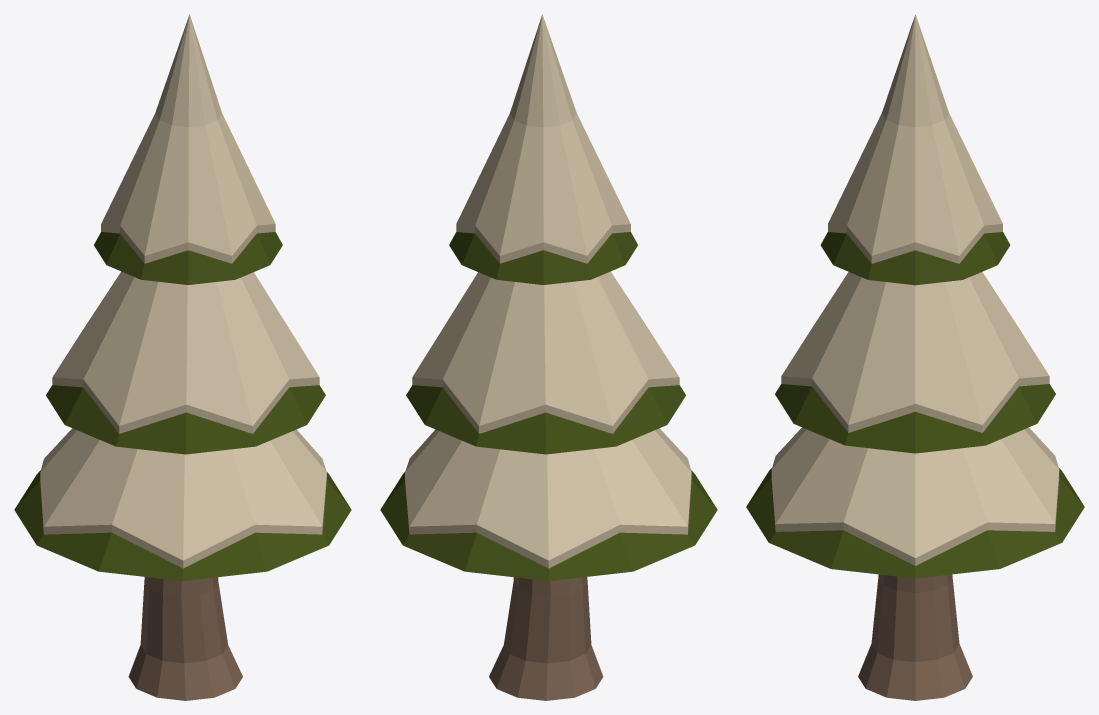
Rendered from SnowTree 1.fbx.
3 views of the same model, side by side, from view 1: azimuth 30°, elevation 25°; view 2: azimuth 150°, elevation 25°; view 3: azimuth 270°, elevation 25° (orthographic).
Parts seen in each view (by area): view 1: Circle.001; view 2: Circle.001; view 3: Circle.001.
Part boxes in pixels (box(x1,y1,x2,y2)): Circle.001: box(14, 14, 351, 700); Circle.001: box(380, 14, 717, 700); Circle.001: box(746, 14, 1084, 700).
Size of the model in its own units: 4306 by 9319 by 4306.
